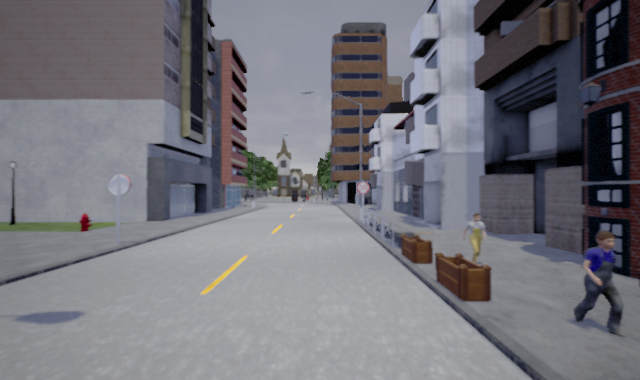pedestrian: (572, 229, 626, 339), (461, 210, 489, 265)
traffic_sign: (357, 181, 371, 195)
